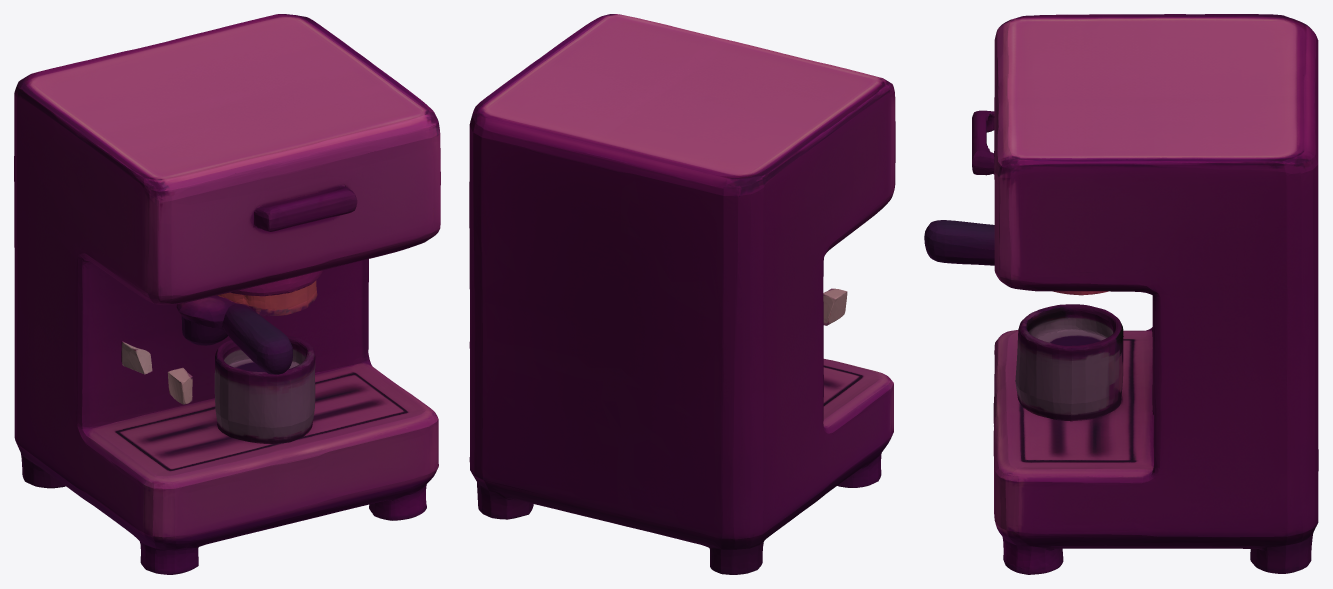
3 renders of one model, left to right at view 1: azimuth 30°, elevation 25°; view 2: azimuth 150°, elevation 25°; view 3: azimuth 270°, elevation 25°, orthographic. The views are drawn at different scales.
Visible parts, largest first — view 1: world; view 2: world; view 3: world.
Boxes of the visible parts, left/top/right/bottom form: world: left=14, top=14, right=440, bottom=574; world: left=469, top=14, right=895, bottom=574; world: left=924, top=14, right=1318, bottom=574.
Size of the model in its own units: 75.68 by 98.92 by 84.45.
1 material, 1 textured.
